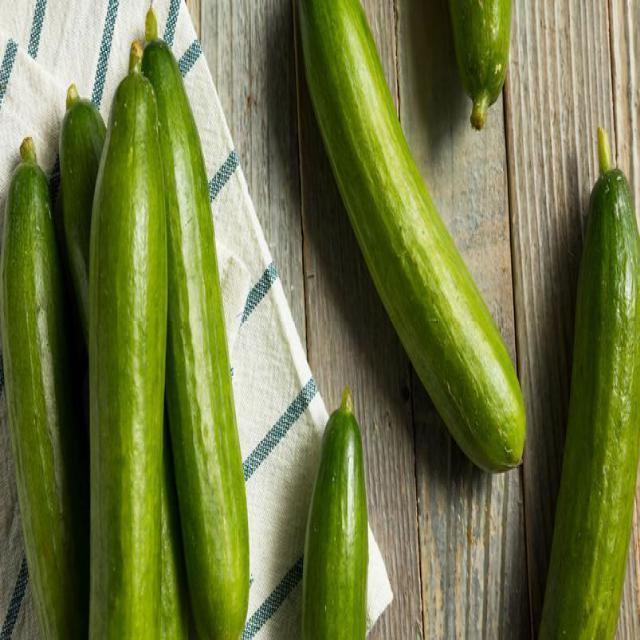cucumber: (292, 1, 528, 478), (55, 81, 187, 639), (144, 25, 253, 640), (535, 140, 639, 639), (86, 63, 163, 639), (1, 137, 80, 639), (301, 382, 371, 639), (448, 1, 516, 130)
